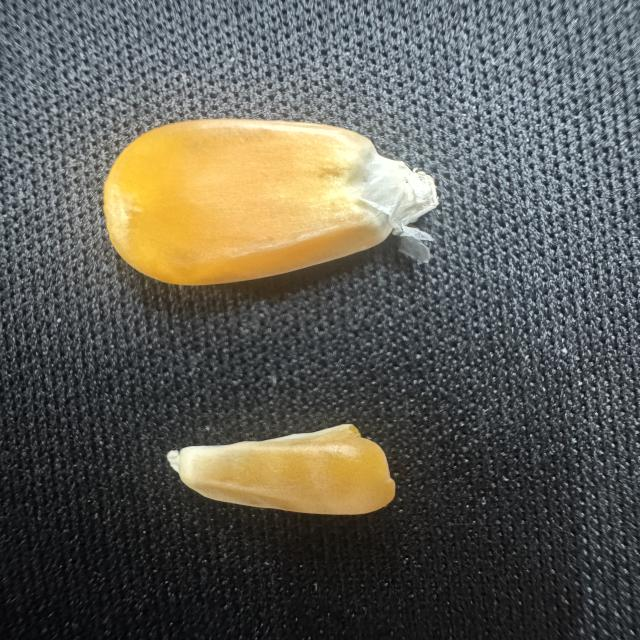Bad-Seed: (157, 416, 416, 522)
Good-Seed: (94, 110, 468, 288)
